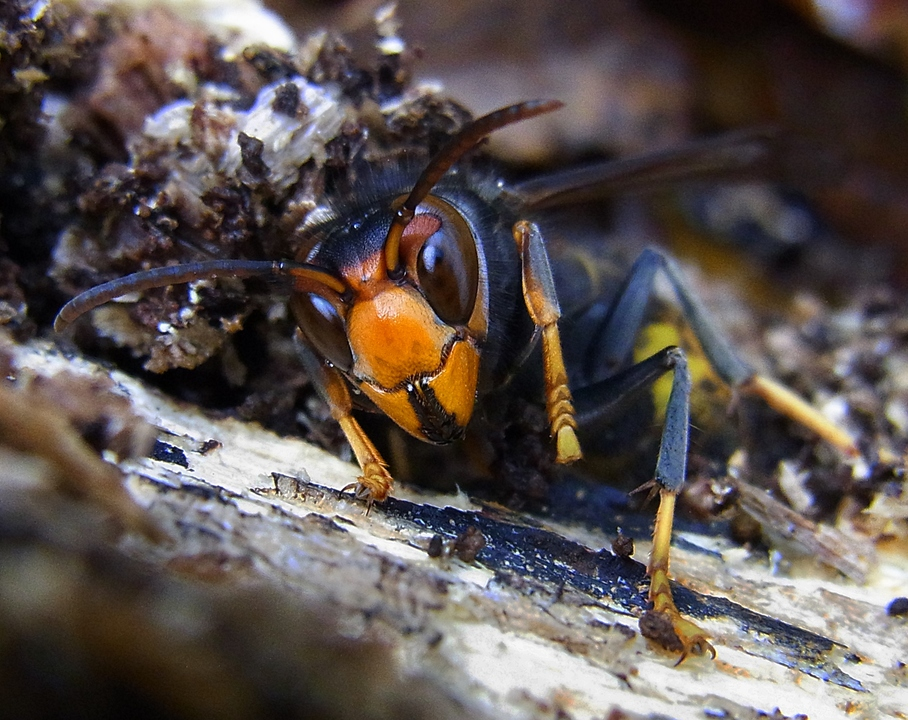hornet: (199, 104, 876, 588)
